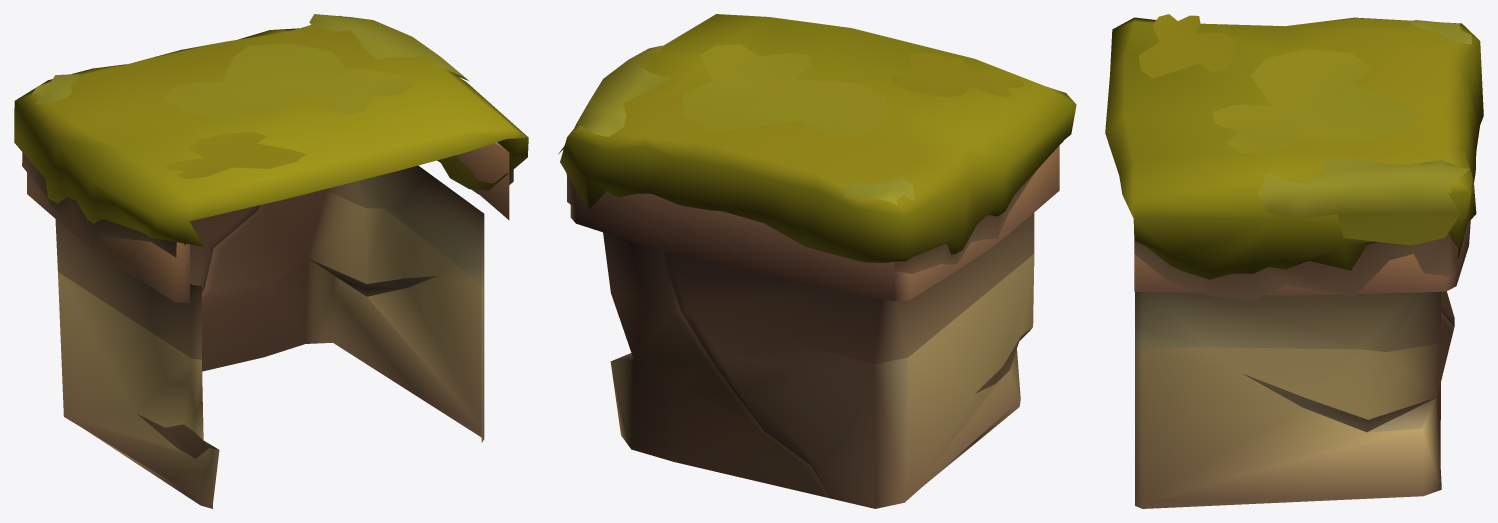
The model's file is city_piston_1.fbx.
3 views of the same model, side by side, from view 1: azimuth 30°, elevation 25°; view 2: azimuth 150°, elevation 25°; view 3: azimuth 270°, elevation 25° (orthographic). The views are drawn at different scales.
Parts seen in each view (by area): view 1: piston; view 2: piston; view 3: piston.
Part boxes in pixels (<box>): piston: <box>14,14,528,508</box>; piston: <box>558,14,1076,508</box>; piston: <box>1105,14,1483,508</box>.
Bounding box in the file's own units: 121 × 101 × 99.44.
